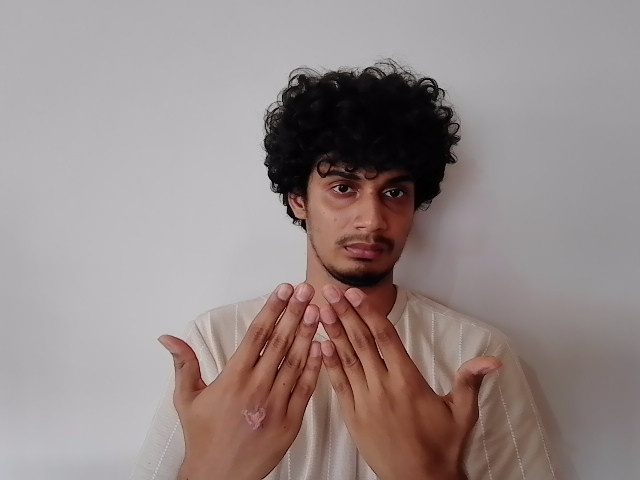thankyou: (146, 273, 504, 467)
